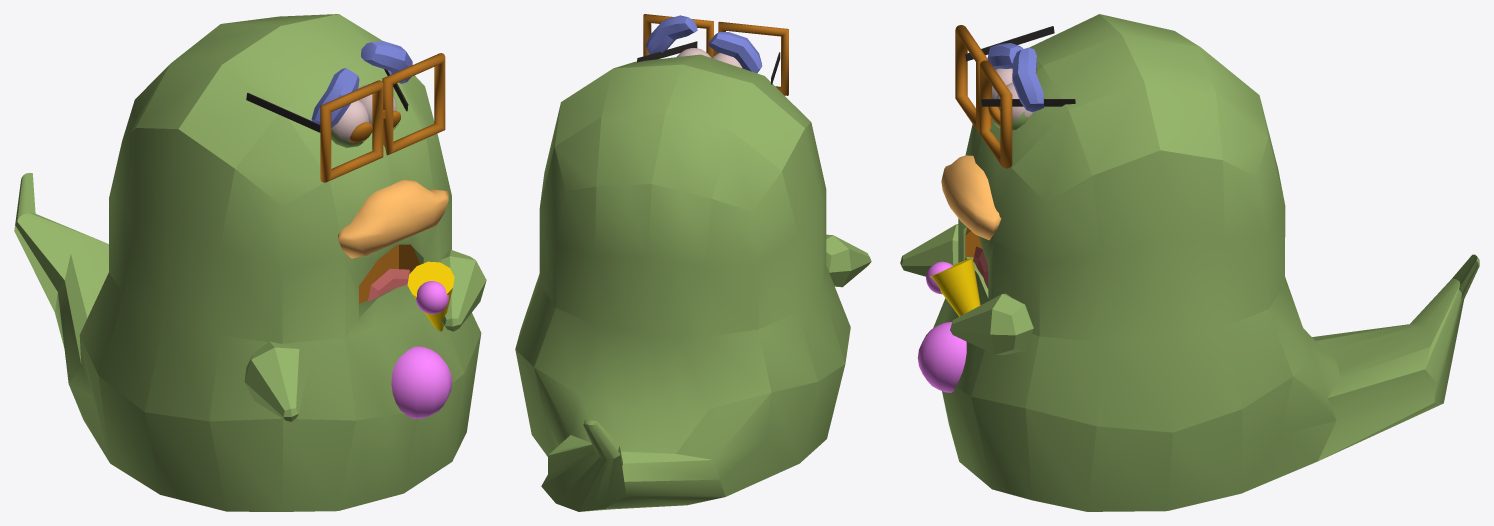
File: elf5.glb
The picture shows the model from 3 angles, left to right: view 1: azimuth 30°, elevation 25°; view 2: azimuth 150°, elevation 25°; view 3: azimuth 270°, elevation 25°; orthographic projection. The views are drawn at different scales.
Visible parts, largest first — view 1: body, Cube 2 (×2), Torus (×2), moustache, ballicecream, cone, mouth, eyebrow_l, eyebrow_r, icecream, Sphere, Cube 11 (+1 smaller); view 2: body, Torus (×2), Cube 2, eyebrow_r, eyebrow_l; view 3: body, Cube 2 (×2), Torus (×2), moustache, ballicecream, cone, eyebrow_l, eyebrow_r.
Boxes of the visible parts, <box> form: body: <box>14,14,481,511</box>; Cube 2 (×2): <box>244,250,486,421</box>; Torus (×2): <box>320,53,445,182</box>; moustache: <box>338,180,448,258</box>; ballicecream: <box>391,346,452,418</box>; cone: <box>407,261,454,331</box>; mouth: <box>359,244,419,303</box>; eyebrow_l: <box>361,41,412,83</box>; eyebrow_r: <box>311,68,359,127</box>; icecream: <box>416,281,448,314</box>; Sphere: <box>331,100,368,141</box>; Cube 11: <box>368,268,410,301</box>; body: <box>515,54,850,511</box>; Torus (×2): <box>643,14,788,95</box>; Cube 2: <box>826,234,871,287</box>; eyebrow_r: <box>708,32,762,73</box>; eyebrow_l: <box>646,15,697,54</box>; body: <box>933,14,1479,511</box>; Cube 2 (×2): <box>900,224,1033,354</box>; Torus (×2): <box>955,25,1012,168</box>; moustache: <box>941,155,1001,240</box>; ballicecream: <box>917,322,966,392</box>; cone: <box>930,258,980,316</box>; eyebrow_l: <box>1012,47,1044,112</box>; eyebrow_r: <box>987,43,1023,69</box>.
Bounding box in the file's own units: 2.96 × 3.69 × 4.47.
